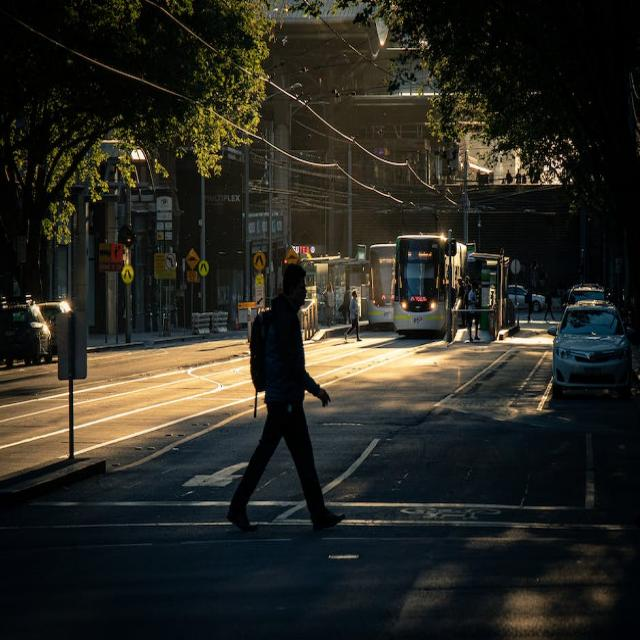hump: (186, 248, 199, 270), (286, 248, 298, 264)
